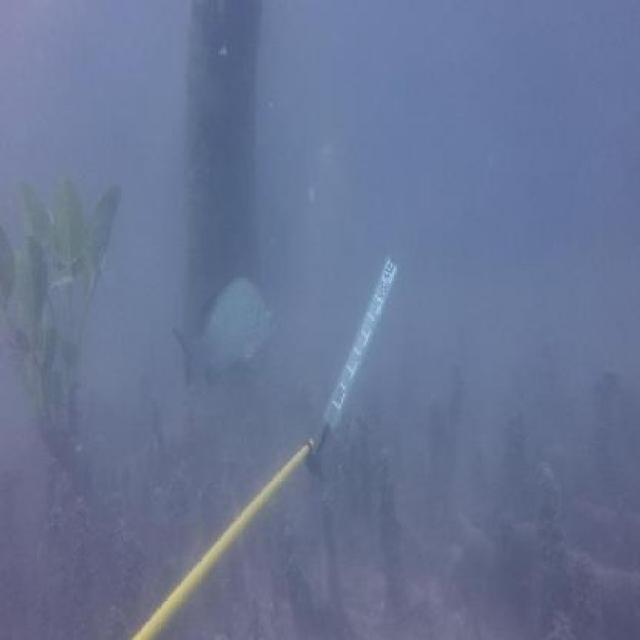acanthopagrus_palmaris: (172, 277, 282, 392)
